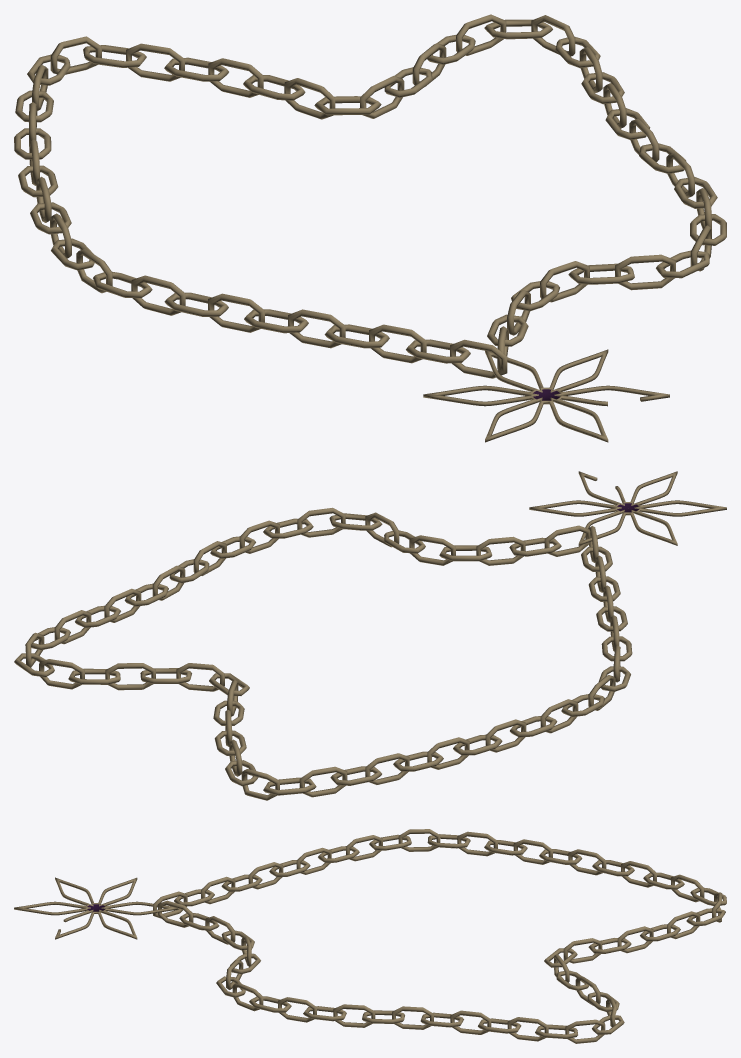
The model's file is star necklace.fbx.
3 views of the same model, one above another, from view 1: azimuth 30°, elevation 25°; view 2: azimuth 150°, elevation 25°; view 3: azimuth 270°, elevation 25° (orthographic). The views are drawn at different scales.
Visible parts, largest first — view 1: Chain, Star; view 2: Chain, Star; view 3: Chain, Star.
Boxes of the visible parts, bbox=[...] form: Chain: bbox=[14, 14, 726, 378]; Star: bbox=[423, 349, 669, 442]; Chain: bbox=[14, 507, 632, 800]; Star: bbox=[529, 471, 726, 545]; Chain: bbox=[153, 829, 726, 1043]; Star: bbox=[14, 877, 178, 939].
Bounding box in the file's own units: 401 × 20.76 × 598.
